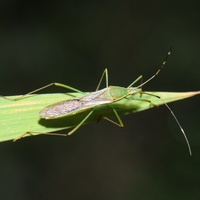insect: (0, 50, 199, 155)
